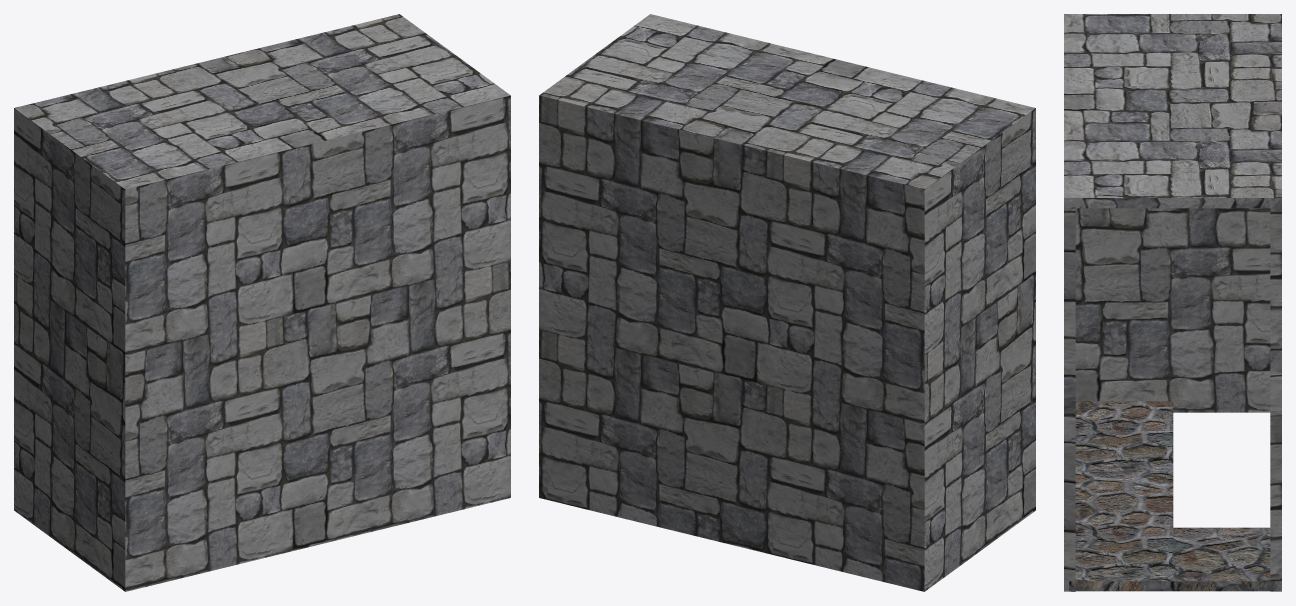
The model's file is roomStairsTop.dae.
3 views of the same model, side by side, from view 1: azimuth 30°, elevation 25°; view 2: azimuth 150°, elevation 25°; view 3: azimuth 270°, elevation 25° (orthographic). The views are drawn at different scales.
Parts seen in each view (by area): view 1: WallsTop; view 2: WallsTop; view 3: WallsTop, FloorTop.
Part boxes in pixels (x1,y1,x2,y2): WallsTop: [14, 14, 510, 591]; WallsTop: [539, 14, 1035, 591]; WallsTop: [1064, 14, 1281, 591]; FloorTop: [1069, 401, 1277, 591].
Bounding box in the file's own units: 30 × 15 × 30.
2 materials, 2 textured.
